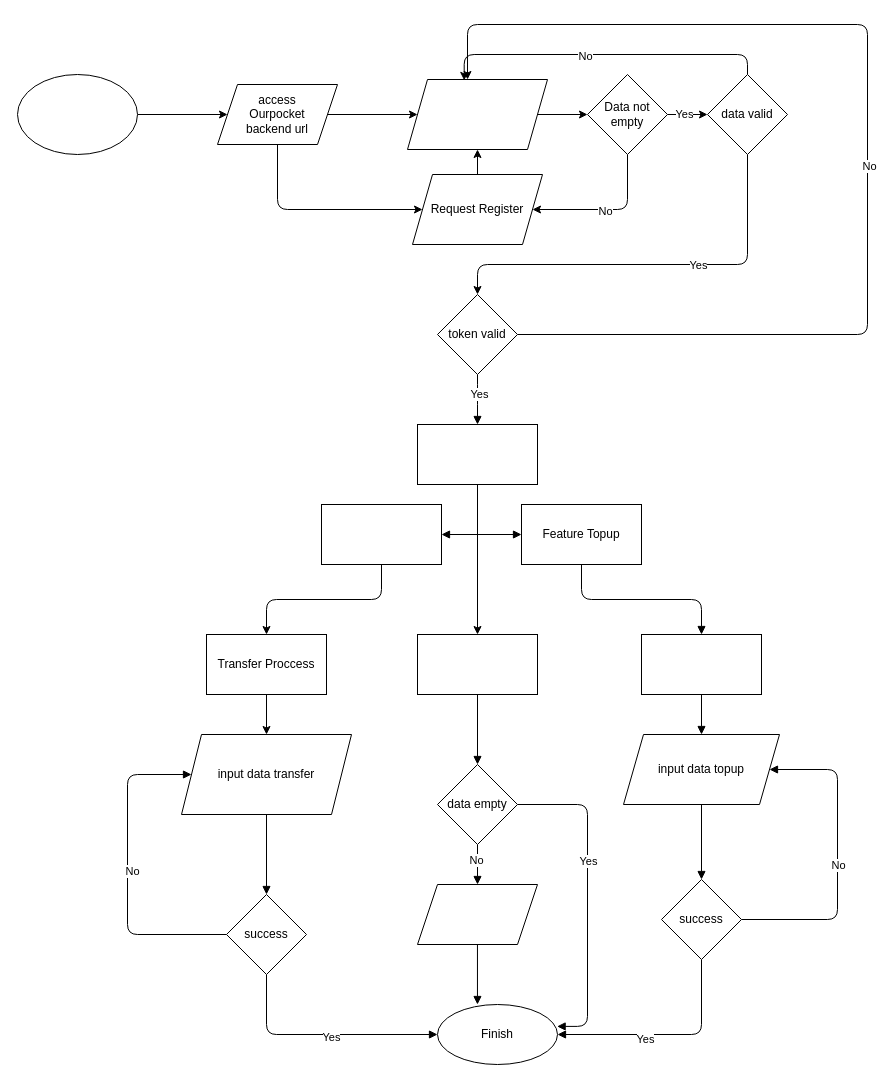
The diagram is 893 pixels wide and 1082 high, and some of its shapes have lost their labels. Here are the shapes that lost their labels. From the top down, the centre of each, then its label:
At pixel 77 114: "Start".
At pixel 477 114: "Request Login".
At pixel 477 454: "Transaction".
At pixel 381 534: "Feature Transfer".
At pixel 477 664: "get data transaction".
At pixel 701 664: "charge balance".
At pixel 477 914: "Data List".
